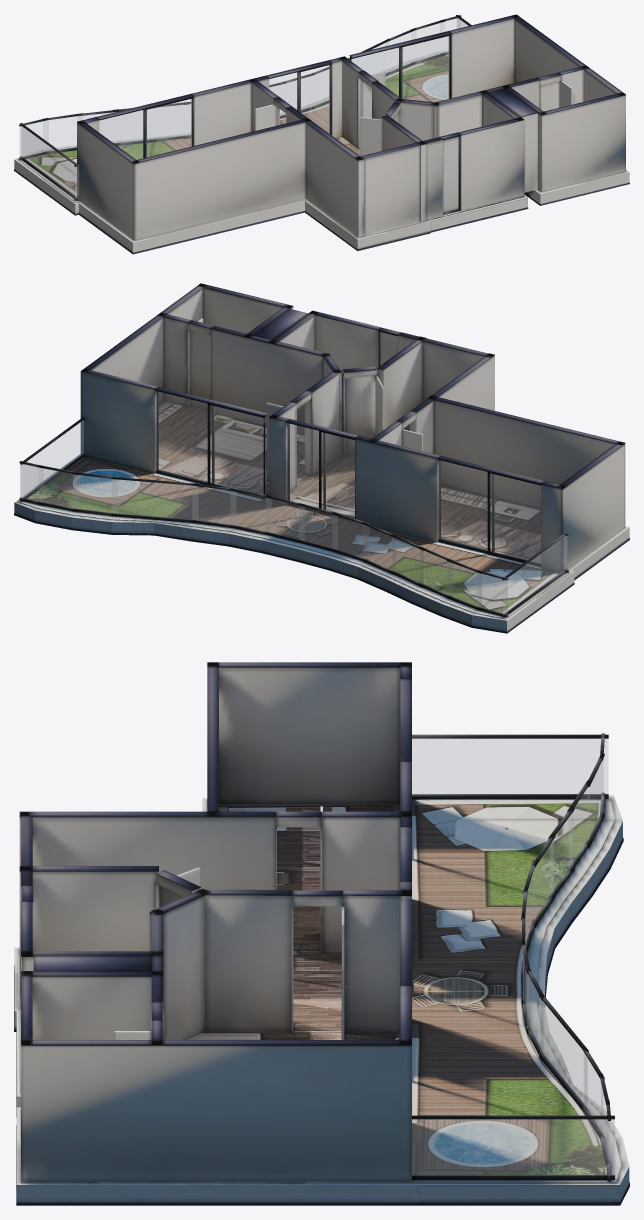
3 renders of one model, top to bottom at view 1: azimuth 30°, elevation 25°; view 2: azimuth 150°, elevation 25°; view 3: azimuth 270°, elevation 25°, orthographic. The views are drawn at different scales.
Parts seen in each view (by area): view 1: plan, glass2_m, glass0_m, glass1_m, railg16_m, glass3_m, railg1_m, railg4_m, railg3_m, railg0_m, railg13_m, railg12_m (+4 smaller); view 2: plan, glass2_m, glass0_m, glass1_m, railg11_m, railg16_m, railg15_m, railg10_m, railg12_m, railg9_m, railg13_m, railg7_m (+8 smaller); view 3: plan, railg15_m, railg16_m, railg11_m, railg4_m, railg3_m, railg2_m, railg12_m, railg10_m, railg1_m.
Boxes of the visible parts, box(x1,y1,x2,y2) form: plan: box(14, 14, 629, 254); glass2_m: box(351, 36, 449, 101); glass0_m: box(99, 99, 191, 159); glass1_m: box(269, 65, 329, 133); railg16_m: box(21, 126, 78, 198); glass3_m: box(443, 137, 458, 212); railg1_m: box(43, 116, 82, 151); railg4_m: box(119, 108, 154, 142); railg3_m: box(155, 105, 183, 138); railg0_m: box(19, 120, 47, 157); railg13_m: box(412, 22, 444, 60); railg12_m: box(385, 30, 415, 71); plan: box(14, 283, 629, 633); glass2_m: box(157, 391, 265, 494); glass0_m: box(439, 460, 540, 563); glass1_m: box(288, 423, 354, 518); railg11_m: box(112, 479, 198, 520); railg16_m: box(503, 536, 566, 614); railg15_m: box(21, 420, 83, 499); railg10_m: box(192, 486, 236, 525); railg12_m: box(73, 474, 117, 513); railg9_m: box(230, 491, 271, 532); railg13_m: box(38, 467, 79, 509); railg7_m: box(266, 498, 304, 540); plan: box(14, 662, 629, 1205); railg15_m: box(412, 1119, 614, 1175); railg16_m: box(412, 739, 608, 794); railg11_m: box(540, 998, 587, 1109); railg4_m: box(550, 812, 573, 895); railg3_m: box(533, 840, 553, 923); railg2_m: box(569, 787, 588, 868); railg12_m: box(584, 1053, 602, 1132); railg10_m: box(527, 974, 543, 1056); railg1_m: box(588, 761, 602, 842).
Bounding box in the file's own units: 13.82 × 2.62 × 9.22.
2 materials, 1 textured.
